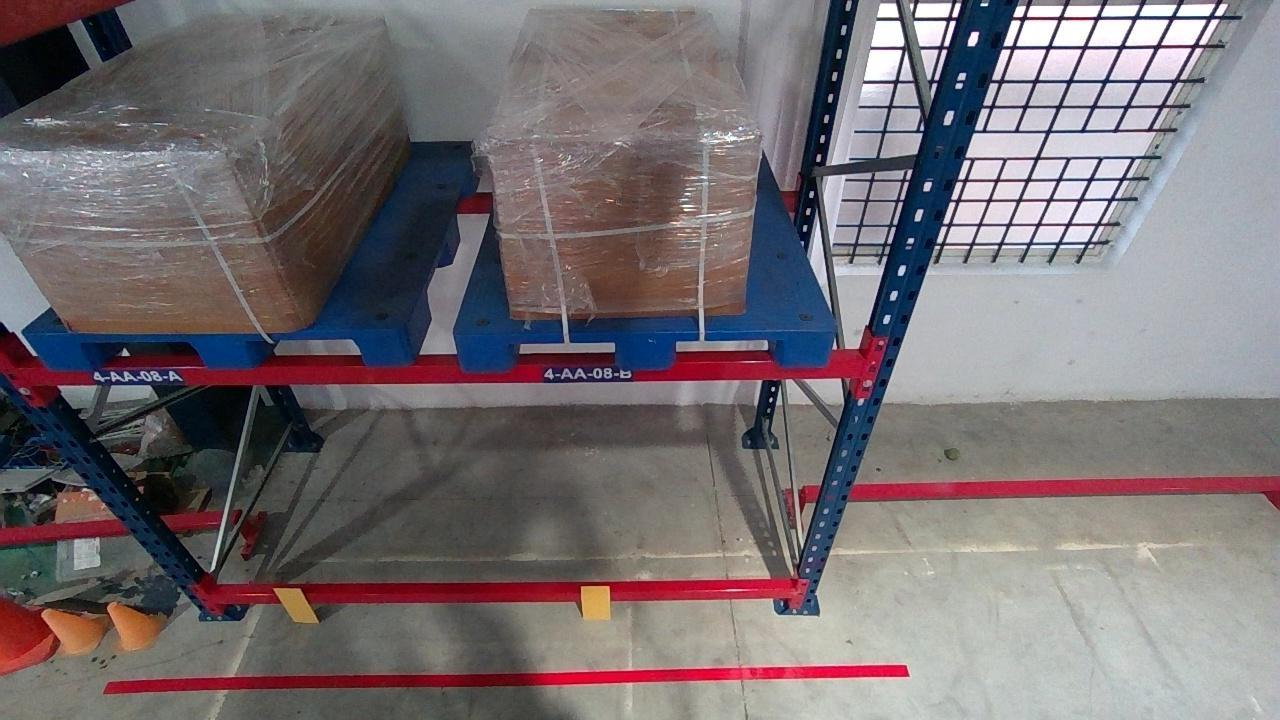h_rack: (24, 355, 864, 384), (206, 585, 796, 604)
orange_strip: (272, 587, 320, 623), (579, 586, 610, 619)
red_line: (100, 663, 909, 690)
small_pallet: (454, 330, 840, 369), (34, 329, 406, 367)
